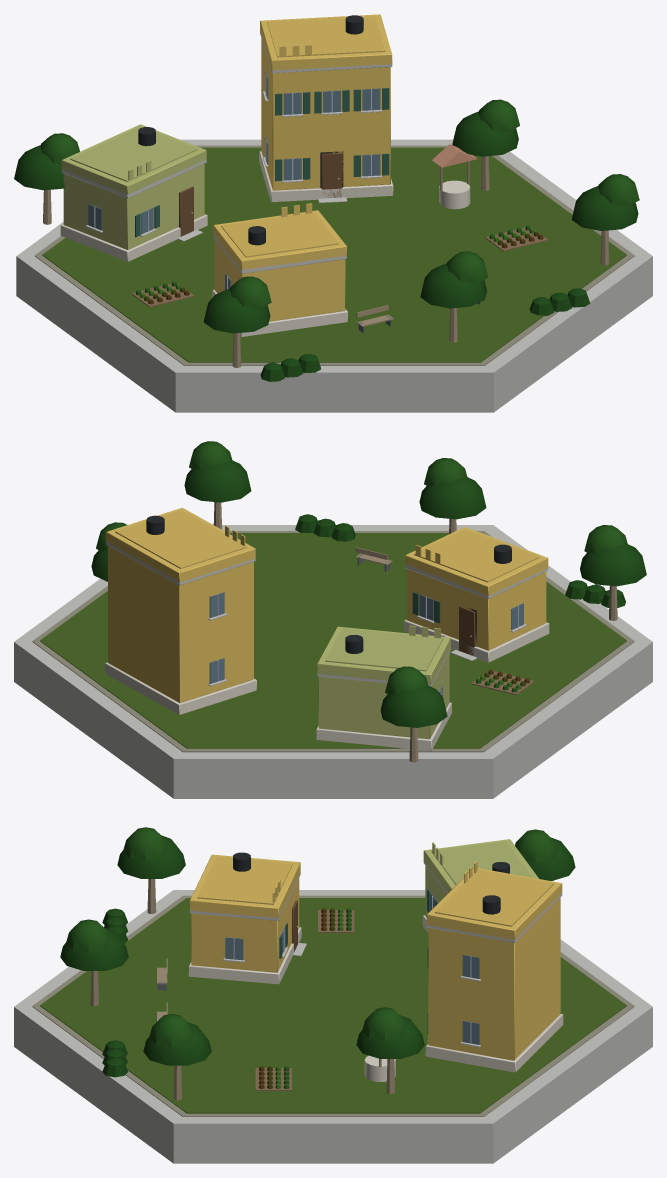
Rendered from cottage_india.glb.
3 views of the same model, one above another, from view 1: azimuth 30°, elevation 25°; view 2: azimuth 150°, elevation 25°; view 3: azimuth 270°, elevation 25° (orthographic).
Parts seen in each view (by area): view 1: turf, plaster, wall_concrete, leaf, wood, stone, pavers, glass, earth, paint, roof_tile; view 2: plaster, turf, wall_concrete, leaf, stone, pavers, wood, glass, paint, earth; view 3: turf, wall_concrete, plaster, leaf, pavers, stone, wood, glass, earth, paint.
Part boxes in pixels (x1=…): turf: x1=42, y1=147, x2=626, y2=362; plaster: x1=61, y1=14, x2=392, y2=321; wall_concrete: x1=16, y1=31, x2=652, y2=412; leaf: x1=14, y1=99, x2=639, y2=381; wood: x1=43, y1=88, x2=609, y2=367; stone: x1=60, y1=151, x2=470, y2=336; pavers: x1=34, y1=145, x2=634, y2=365; glass: x1=88, y1=70, x2=380, y2=289; earth: x1=131, y1=227, x2=548, y2=307; paint: x1=138, y1=15, x2=363, y2=245; roof_tile: x1=432, y1=144, x2=477, y2=167; plaster: x1=106, y1=507, x2=548, y2=739; turf: x1=40, y1=533, x2=626, y2=748; wall_concrete: x1=14, y1=525, x2=652, y2=798; leaf: x1=91, y1=441, x2=646, y2=727; stone: x1=105, y1=619, x2=549, y2=751; pavers: x1=32, y1=531, x2=634, y2=752; wood: x1=213, y1=502, x2=617, y2=762; glass: x1=209, y1=592, x2=523, y2=696; paint: x1=146, y1=515, x2=511, y2=653; earth: x1=471, y1=671, x2=534, y2=695; turf: x1=40, y1=898, x2=626, y2=1113; wall_concrete: x1=14, y1=861, x2=652, y2=1163; plaster: x1=189, y1=839, x2=562, y2=1060; leaf: x1=60, y1=827, x2=575, y2=1088; pavers: x1=32, y1=895, x2=634, y2=1116; stone: x1=188, y1=915, x2=563, y2=1081; wood: x1=90, y1=879, x2=437, y2=1100; glass: x1=225, y1=892, x2=479, y2=1044; earth: x1=255, y1=910, x2=354, y2=1090; paint: x1=233, y1=852, x2=509, y2=914.
Bounding box in the file's own units: 21.3 × 8.33 × 24.6.
